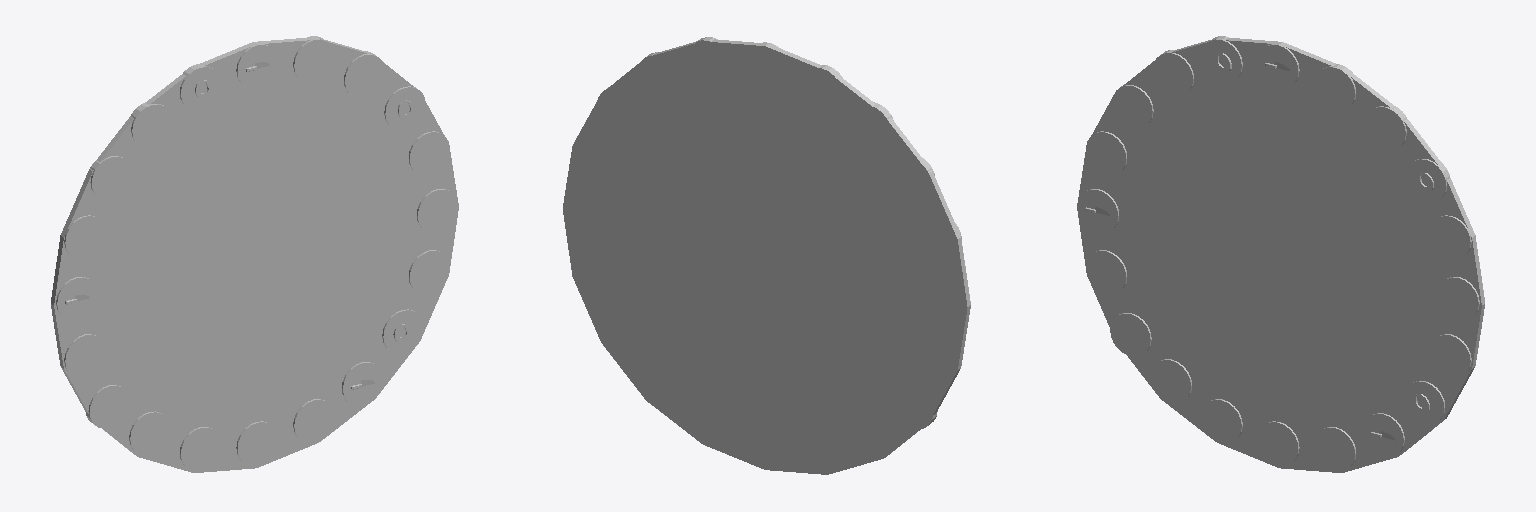
Rendered from Wrath.obj.
3 views of the same model, side by side, from view 1: azimuth 30°, elevation 25°; view 2: azimuth 150°, elevation 25°; view 3: azimuth 330°, elevation 25° (orthographic).
Parts seen in each view (by area): view 1: obj_0; view 2: obj_0; view 3: obj_0.
Part boxes in pixels (x1,y1,x2,y2): obj_0: (51,36,458,472); obj_0: (563,37,970,474); obj_0: (1077,36,1484,472).
Size of the model in its own units: 200 by 200 by 5.